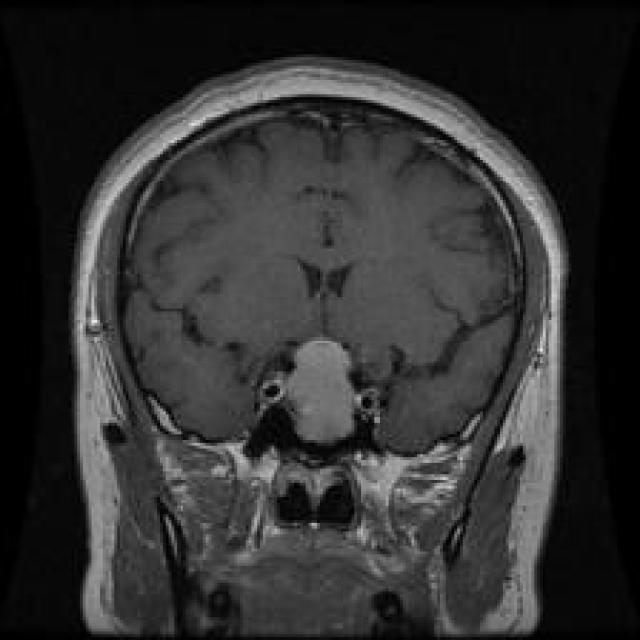pituitary_tumor: (266, 318, 368, 457)
